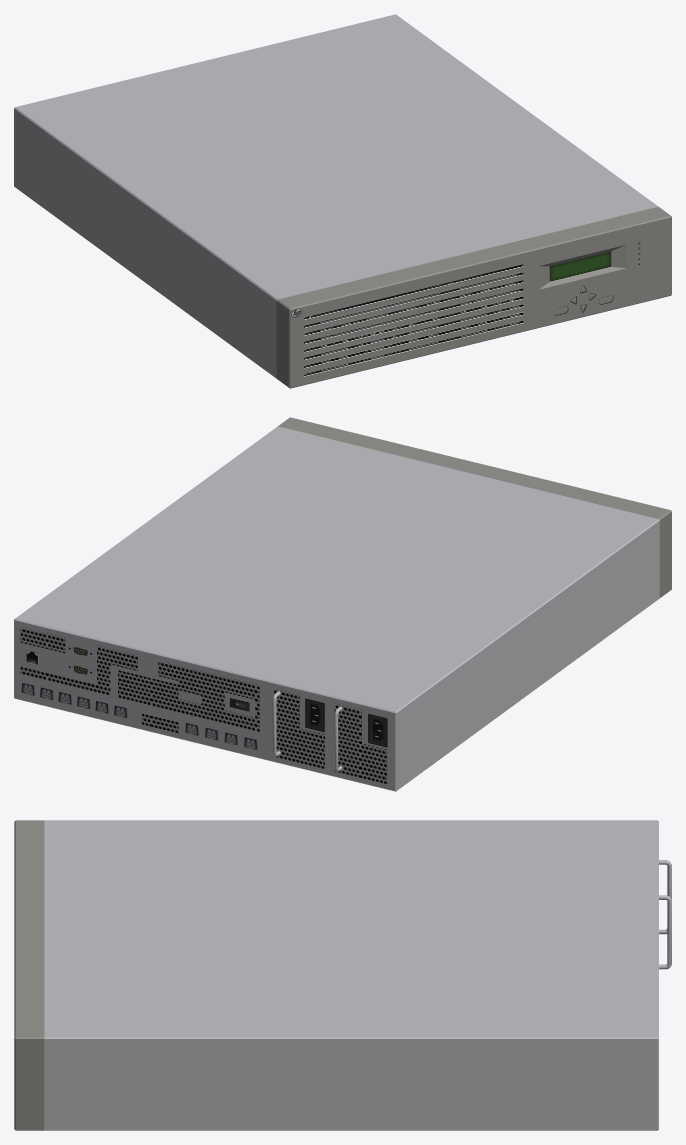
The model's file is HP EVA 8000电源.glb.
3 views of the same model, one above another, from view 1: azimuth 30°, elevation 25°; view 2: azimuth 150°, elevation 25°; view 3: azimuth 270°, elevation 25° (orthographic). The views are drawn at different scales.
Visible parts, largest first — view 1: Lo-BODY_01; view 2: Lo-BODY_01, Lo-POWERPORT_02, Lo-POWERPORT_01; view 3: Lo-BODY_01.
Boxes of the visible parts, left/top/right/bottom form: Lo-BODY_01: left=14, top=14, right=671, bottom=388; Lo-BODY_01: left=14, top=417, right=671, bottom=791; Lo-POWERPORT_02: left=368, top=714, right=387, bottom=747; Lo-POWERPORT_01: left=305, top=698, right=324, bottom=731; Lo-BODY_01: left=14, top=820, right=671, bottom=1130.
Size of the model in its own units: 0.44 by 0.088 by 0.5613.
2 materials, 2 textured.
